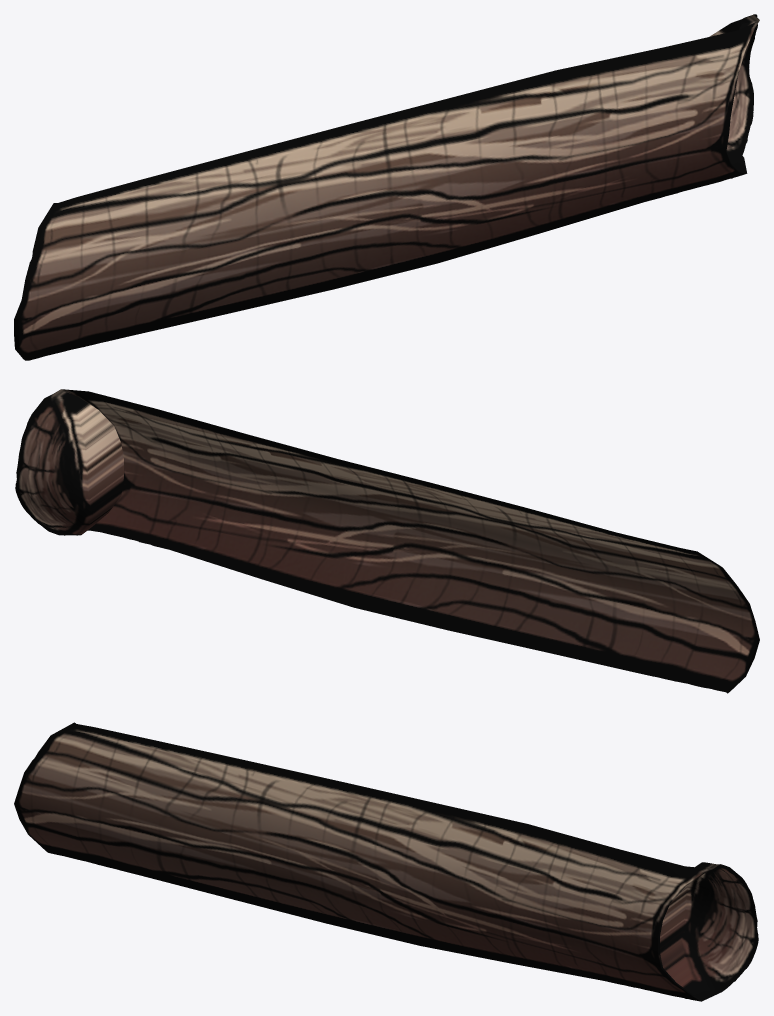
Rendered from mod1_tronco.FBX.
3 renders of one model, top to bottom at view 1: azimuth 30°, elevation 25°; view 2: azimuth 150°, elevation 25°; view 3: azimuth 330°, elevation 25°, orthographic. The views are drawn at different scales.
Parts seen in each view (by area): view 1: tronco; view 2: tronco; view 3: tronco.
Boxes of the visible parts, x1,y1,x2,y2 form: tronco: (14,14,759,360); tronco: (15,389,759,693); tronco: (14,722,758,1001).
Bounding box in the file's own units: 90.37 × 18.09 × 9.4.
